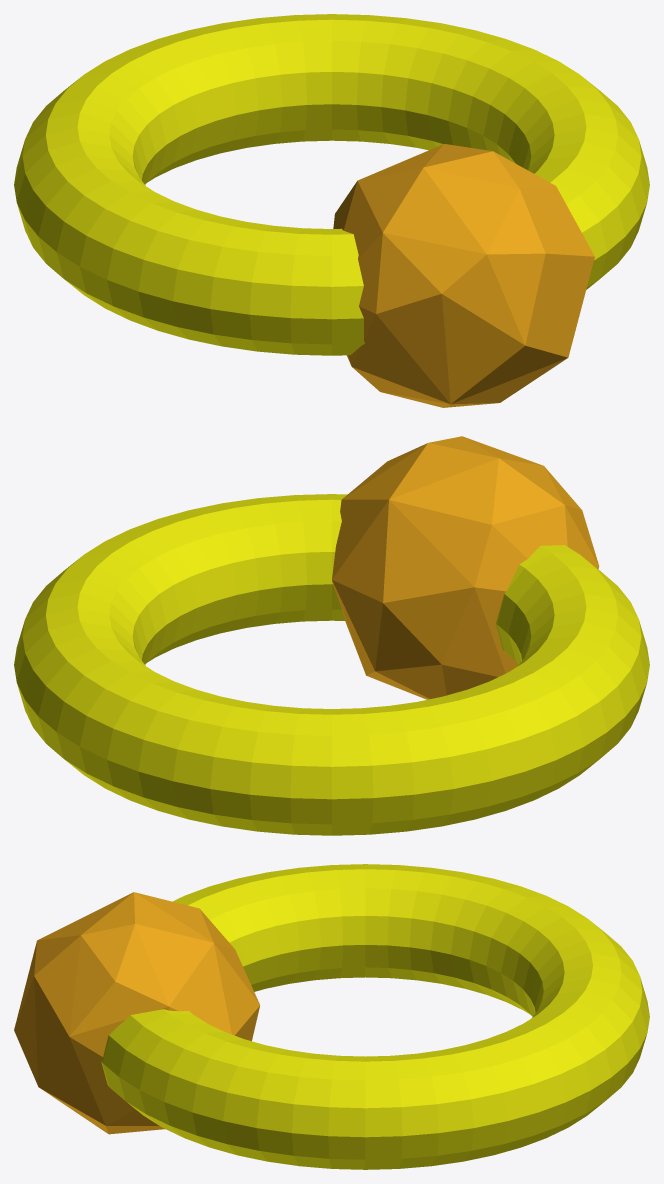
Rendered from amulet_01.glb.
3 renders of one model, top to bottom at view 1: azimuth 30°, elevation 25°; view 2: azimuth 150°, elevation 25°; view 3: azimuth 270°, elevation 25°, orthographic. The views are drawn at different scales.
Parts seen in each view (by area): view 1: Torus, Sphere; view 2: Torus, Sphere; view 3: Torus, Sphere.
Boxes of the visible parts, x1,y1,x2,y2 form: Torus: (14,14,649,355); Sphere: (333,144,594,407); Torus: (14,494,649,835); Sphere: (332,436,599,699); Torus: (101,864,649,1169); Sphere: (14,892,260,1134).
Size of the model in its own units: 2.5 by 1.06 by 2.79.
